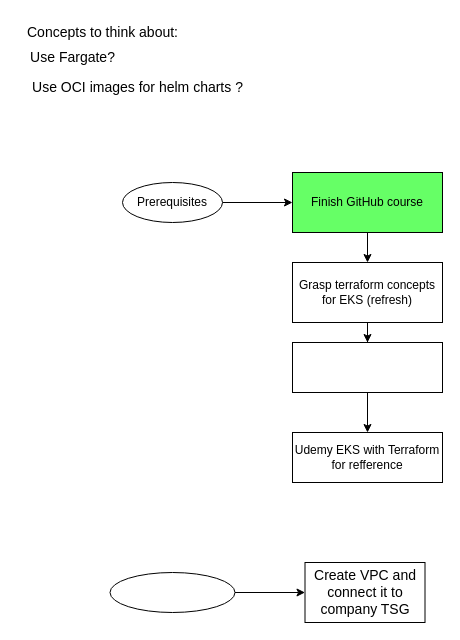
This 460x640 diagram has some shape labels left out. The shapes that lost their labels are listed below. From the top down, each one's centre as x and y in pixels, then its label:
At point (367, 367): "Complete as much of Pluralsight EKS as possible".
At point (172, 592): "Implementation".
